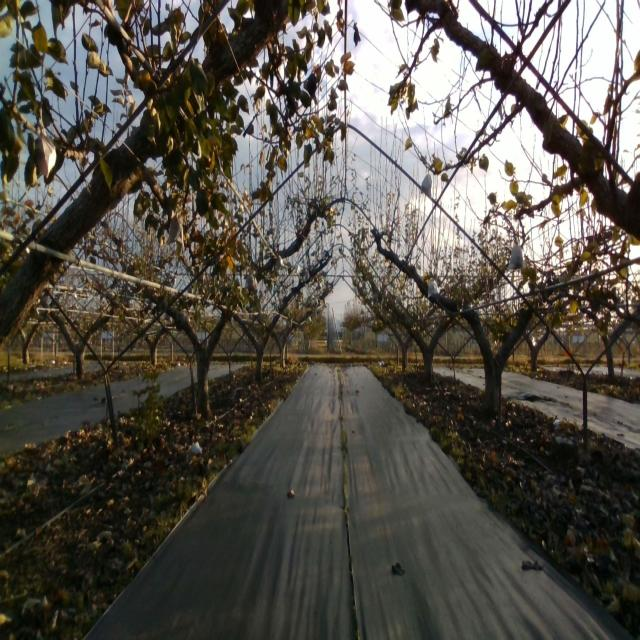pearbags: (35, 129, 57, 180), (167, 211, 185, 252), (420, 167, 433, 200), (508, 243, 523, 270), (426, 278, 441, 298), (244, 273, 255, 291)
